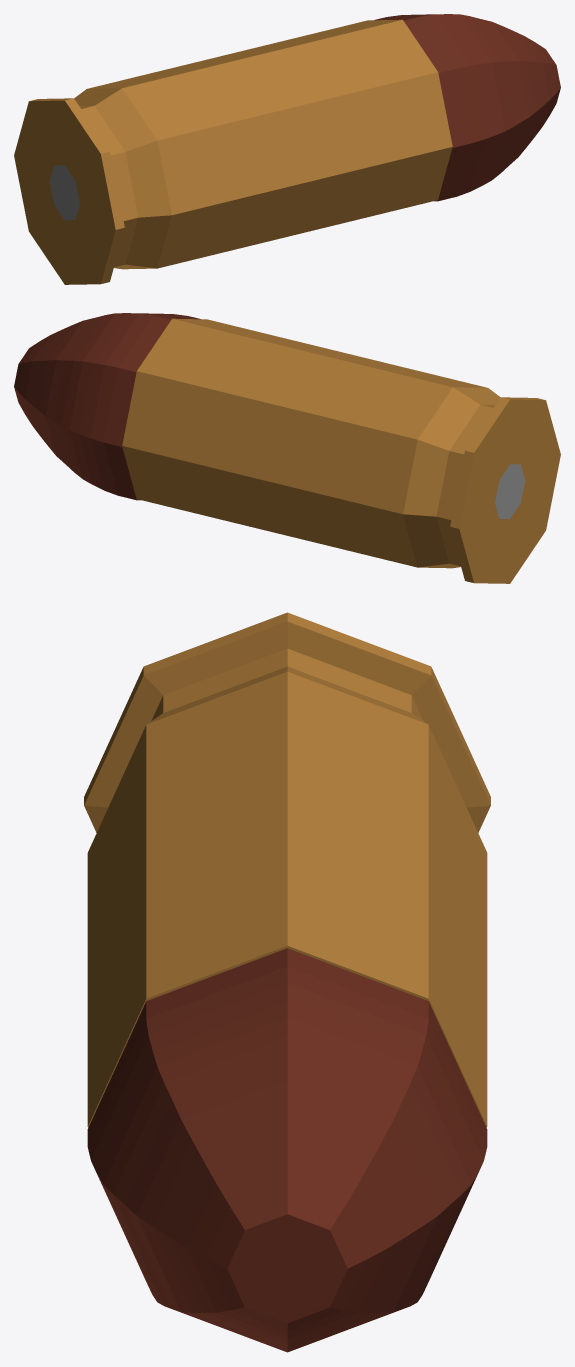
The model's file is Bullet.fbx.
3 views of the same model, one above another, from view 1: azimuth 30°, elevation 25°; view 2: azimuth 150°, elevation 25°; view 3: azimuth 270°, elevation 25° (orthographic). The views are drawn at different scales.
Parts seen in each view (by area): view 1: Cylinder.001, Cylinder; view 2: Cylinder.001, Cylinder; view 3: Cylinder.001, Cylinder.
Boxes of the visible parts, x1=… form: Cylinder.001: x1=14, y1=19, x2=452, y2=284; Cylinder: x1=374, y1=14, x2=560, y2=201; Cylinder.001: x1=122, y1=318, x2=560, y2=583; Cylinder: x1=14, y1=313, x2=200, y2=500; Cylinder.001: x1=84, y1=612, x2=490, y2=1127; Cylinder: x1=87, y1=948, x2=487, y2=1352.
Size of the model in its own units: 4.17 by 1.53 by 1.53.
